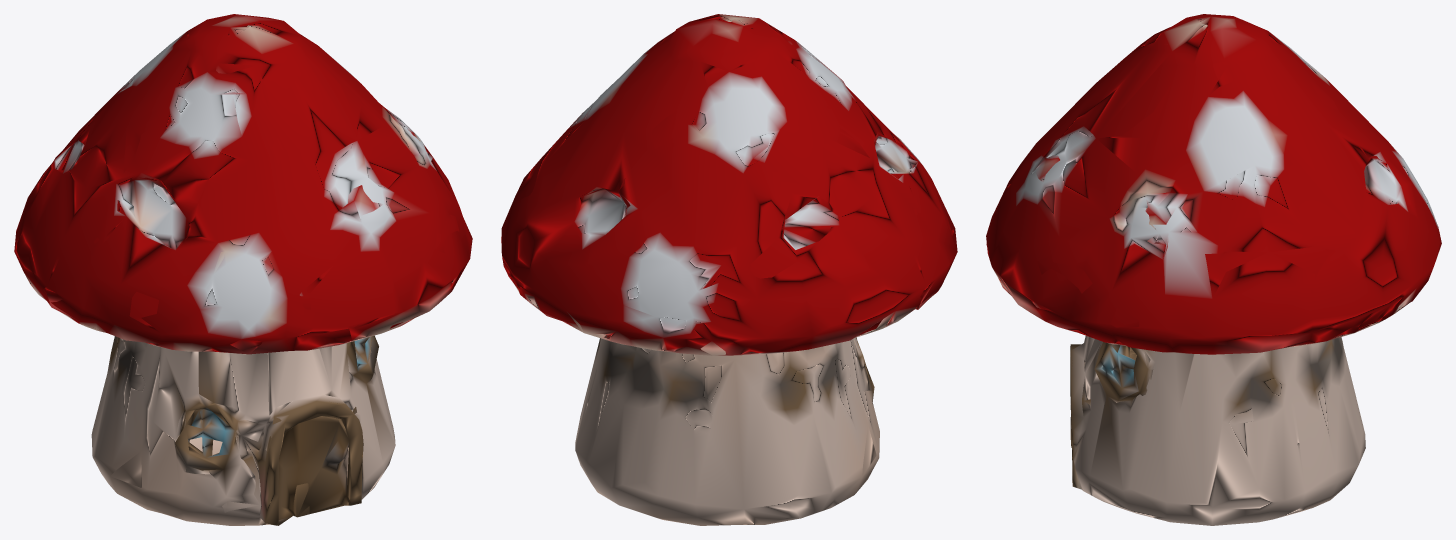
Rendered from gen3d-mushroom-house-lod0.glb.
3 renders of one model, left to right at view 1: azimuth 30°, elevation 25°; view 2: azimuth 150°, elevation 25°; view 3: azimuth 270°, elevation 25°, orthographic.
Parts seen in each view (by area): view 1: part_0; view 2: part_0; view 3: part_0.
Part boxes in pixels (x1=…): part_0: x1=14, y1=14, x2=472, y2=525; part_0: x1=501, y1=14, x2=957, y2=525; part_0: x1=986, y1=14, x2=1441, y2=525.
Size of the model in its own units: 0.9339 by 0.9998 by 0.9338.
